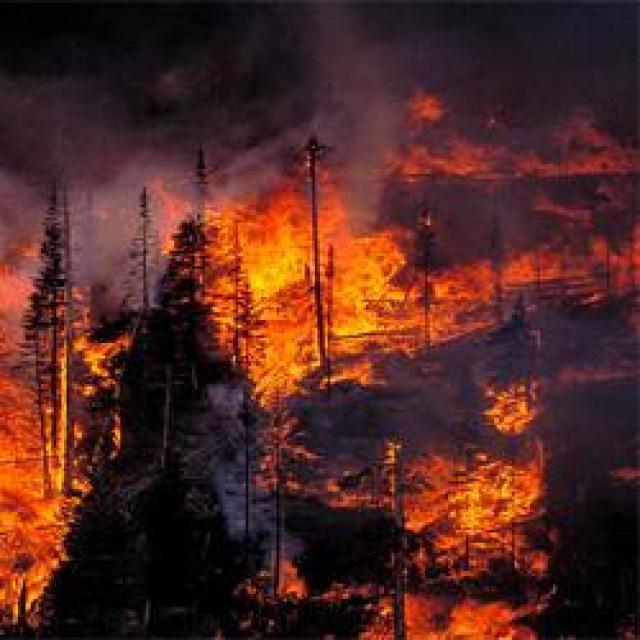Fire: (202, 182, 484, 392), (0, 257, 129, 623), (359, 440, 551, 640)
